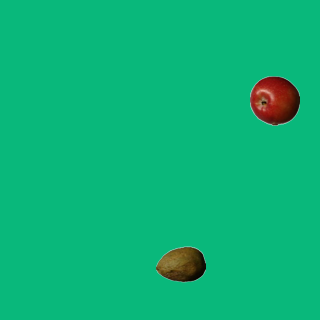Apple Braeburn: (249, 75, 299, 125)
Papaya: (155, 239, 205, 289)
